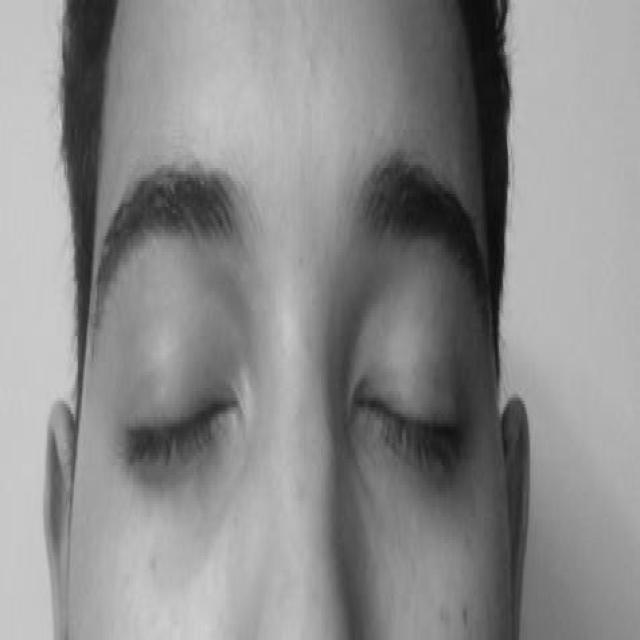real: (109, 260, 484, 557)
